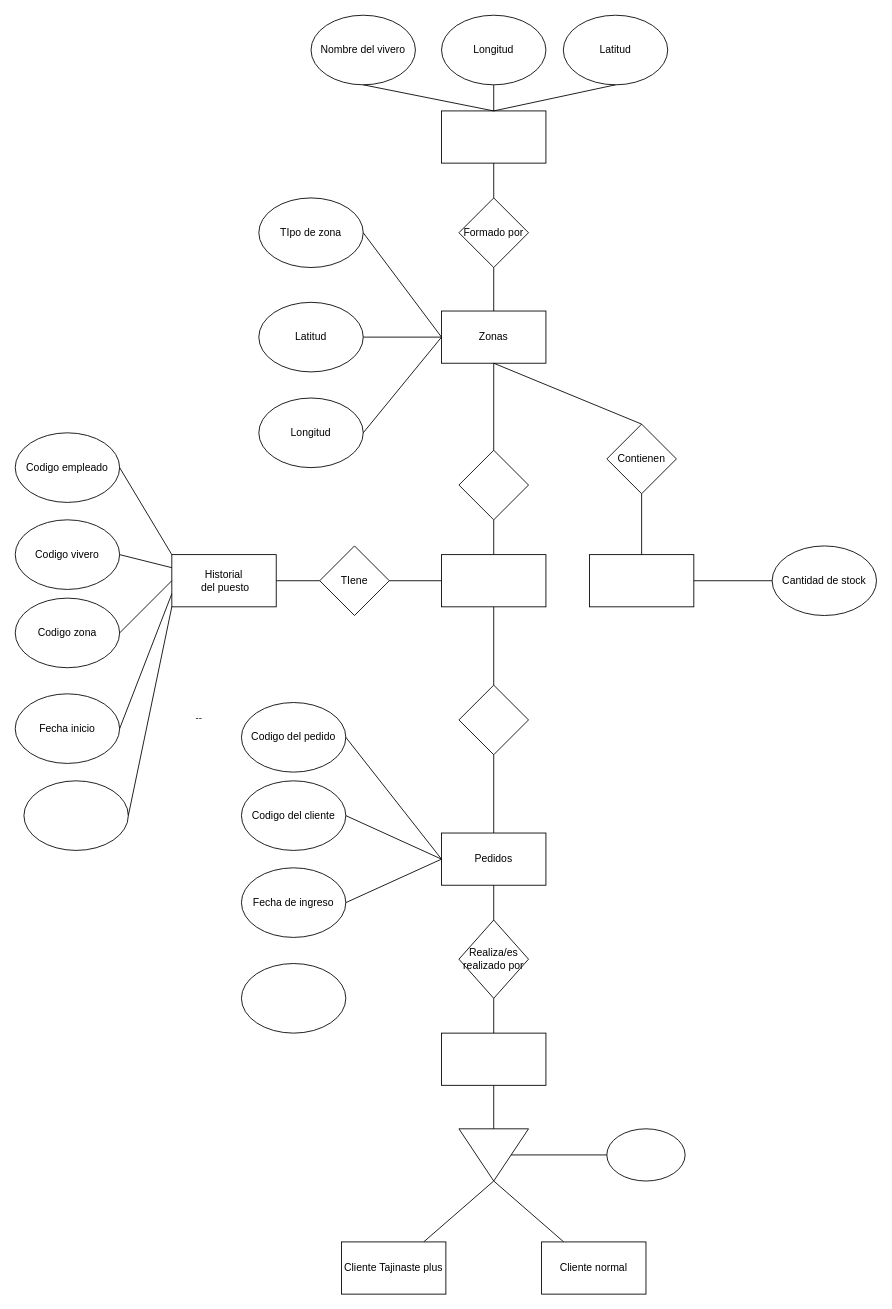
Image size: 892x1309. Some labels were removed from this diagram. The shapes that lost their labels are listed below. From the top down, each one's centre as x and y in pixels, then its label:
At point (493, 136): "Viveros".
At point (493, 484): "Pertenecen".
At point (493, 580): "Empleados".
At point (641, 580): "Productos".
At point (493, 719): "Gestiona".
At point (75, 815): "Fecha fin".
At point (493, 1058): "Cliente".
At point (645, 1154): "Programa de fidelización".
